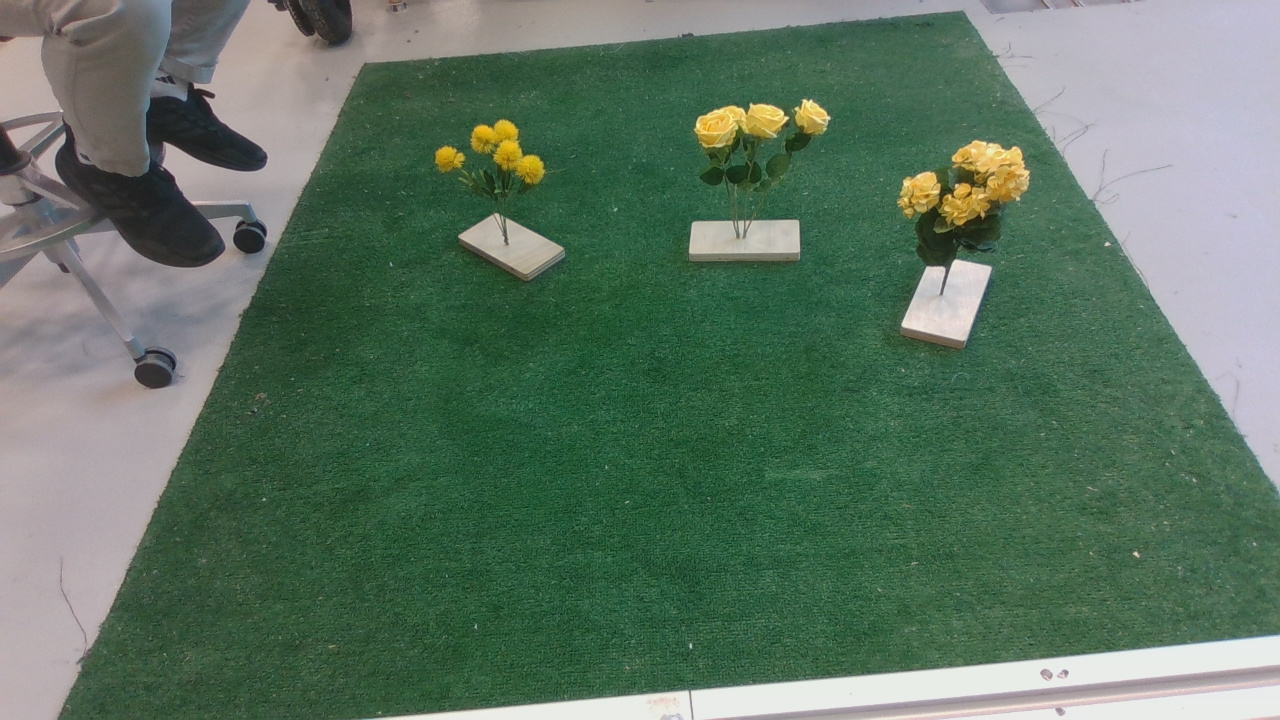dandelion: (433, 120, 560, 209)
geranium: (891, 144, 1039, 280)
rose: (694, 100, 850, 202)
